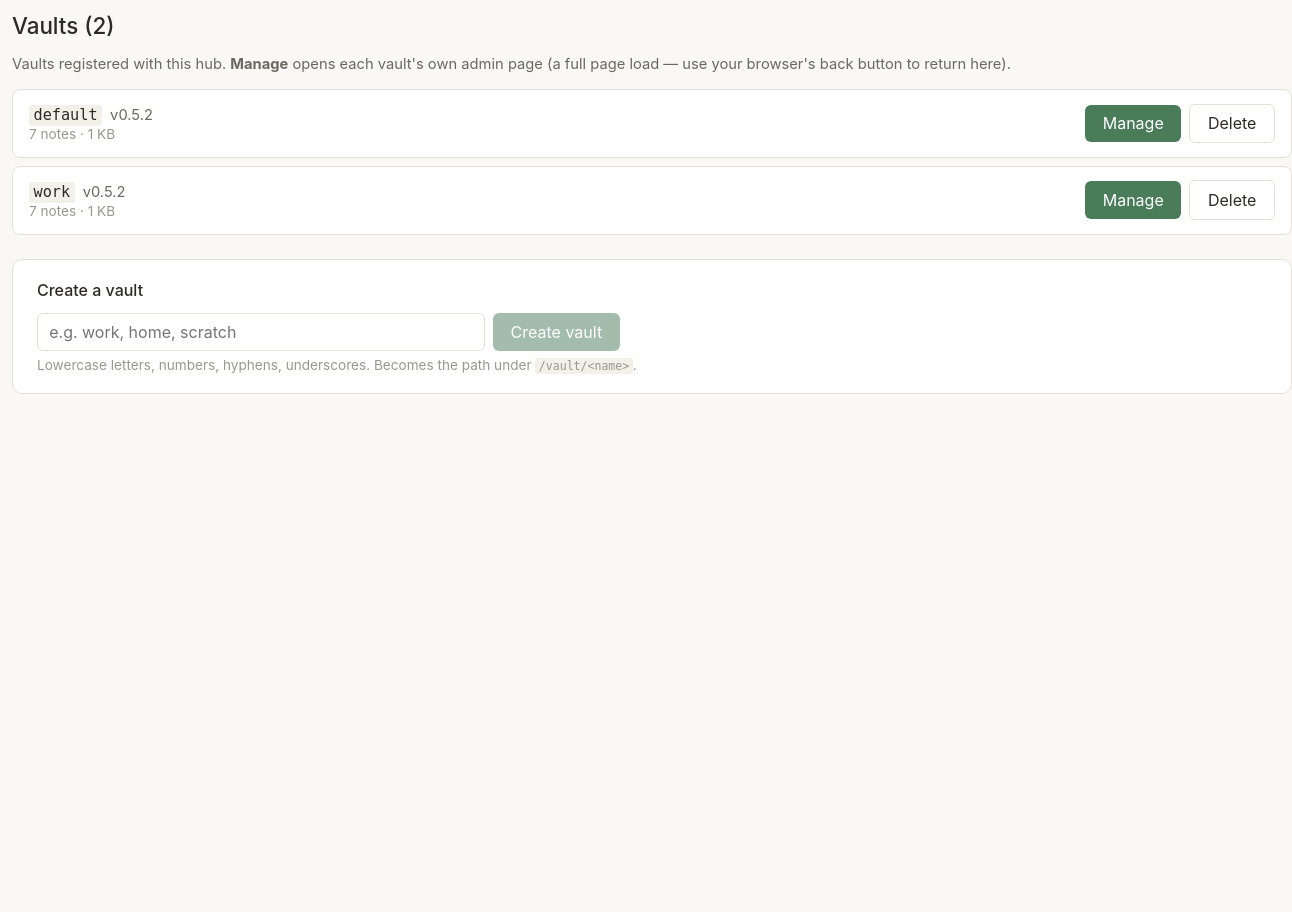
MultiVaultHome — delete › requires the retype-the-name confirm, then renders the cascade summary
The image size is (1292, 912).
expect the text "work" is shown: met, box [29, 182, 75, 203]
Click the button "Delete" in the row of "work" at coordinates (1232, 200), box [1189, 180, 1275, 220]
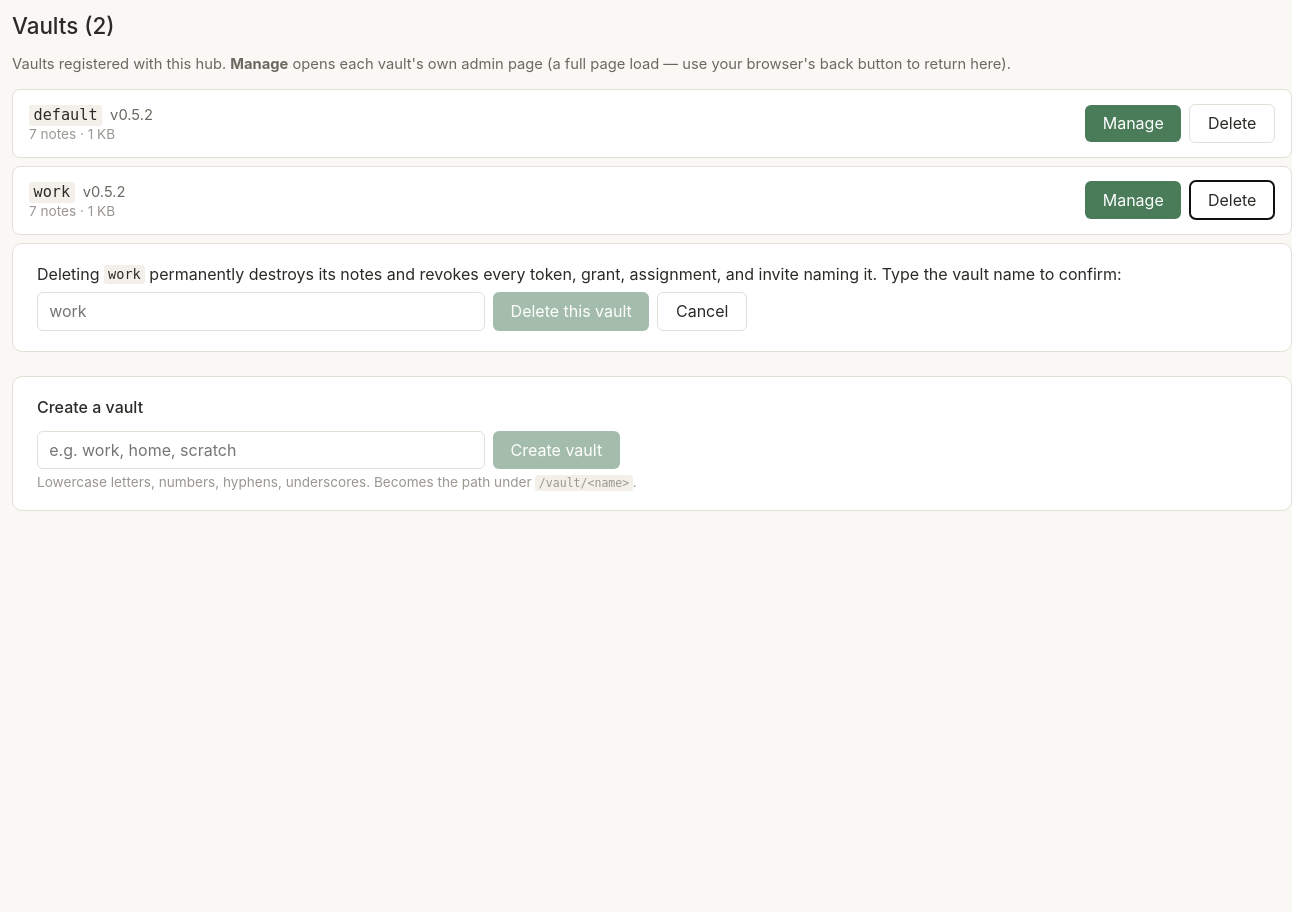
expect the button "Delete this vault" is disabled: met, box [493, 292, 649, 331]
Type "wrok" into the field named "Type work to confirm deletion" at coordinates (261, 311), box [37, 292, 485, 331]
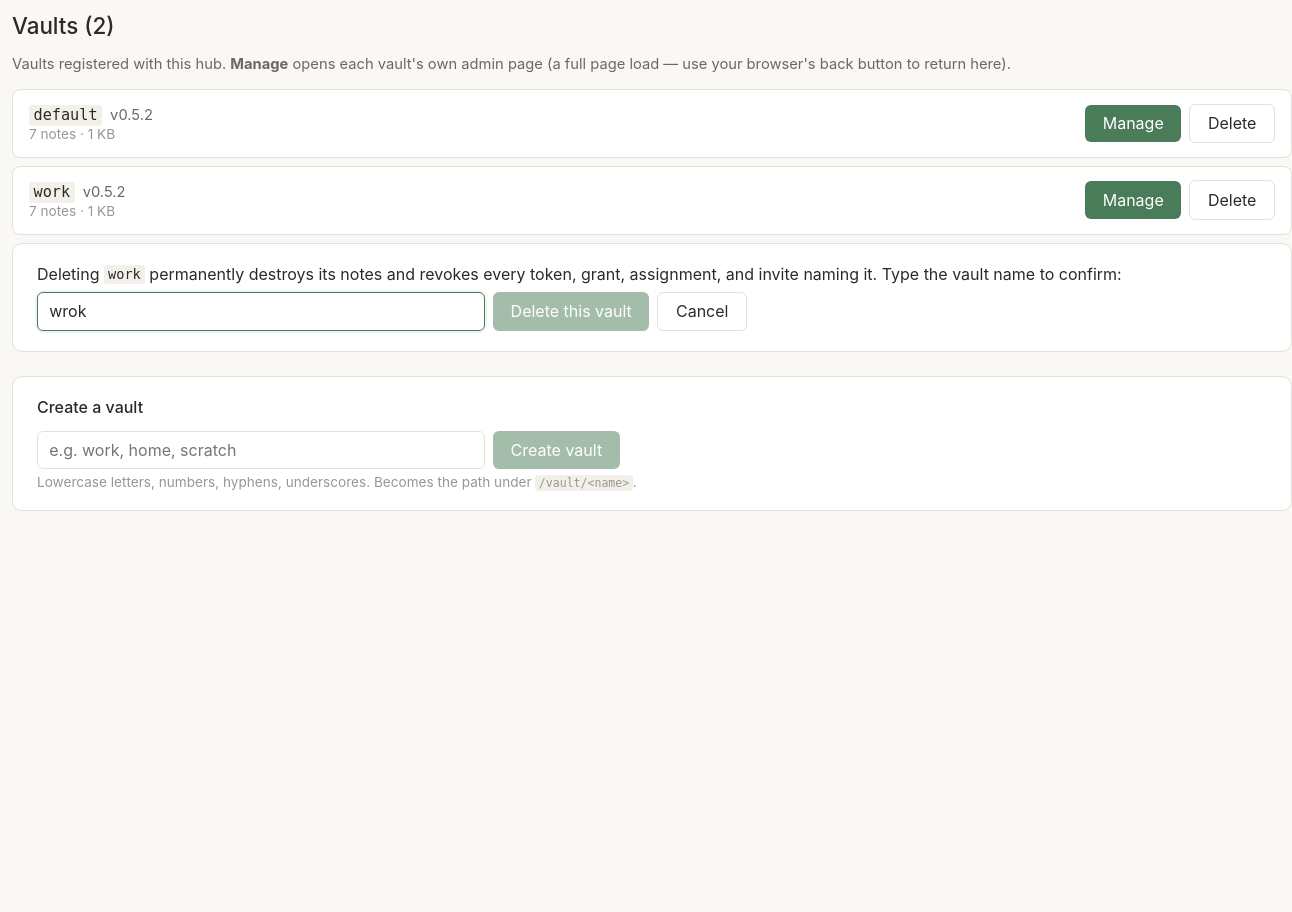
expect the button "Delete this vault" is disabled: met, box [493, 292, 649, 331]
Replace the text in the field named "Type work to confirm deletion" with "work" at coordinates (261, 311), box [37, 292, 485, 331]
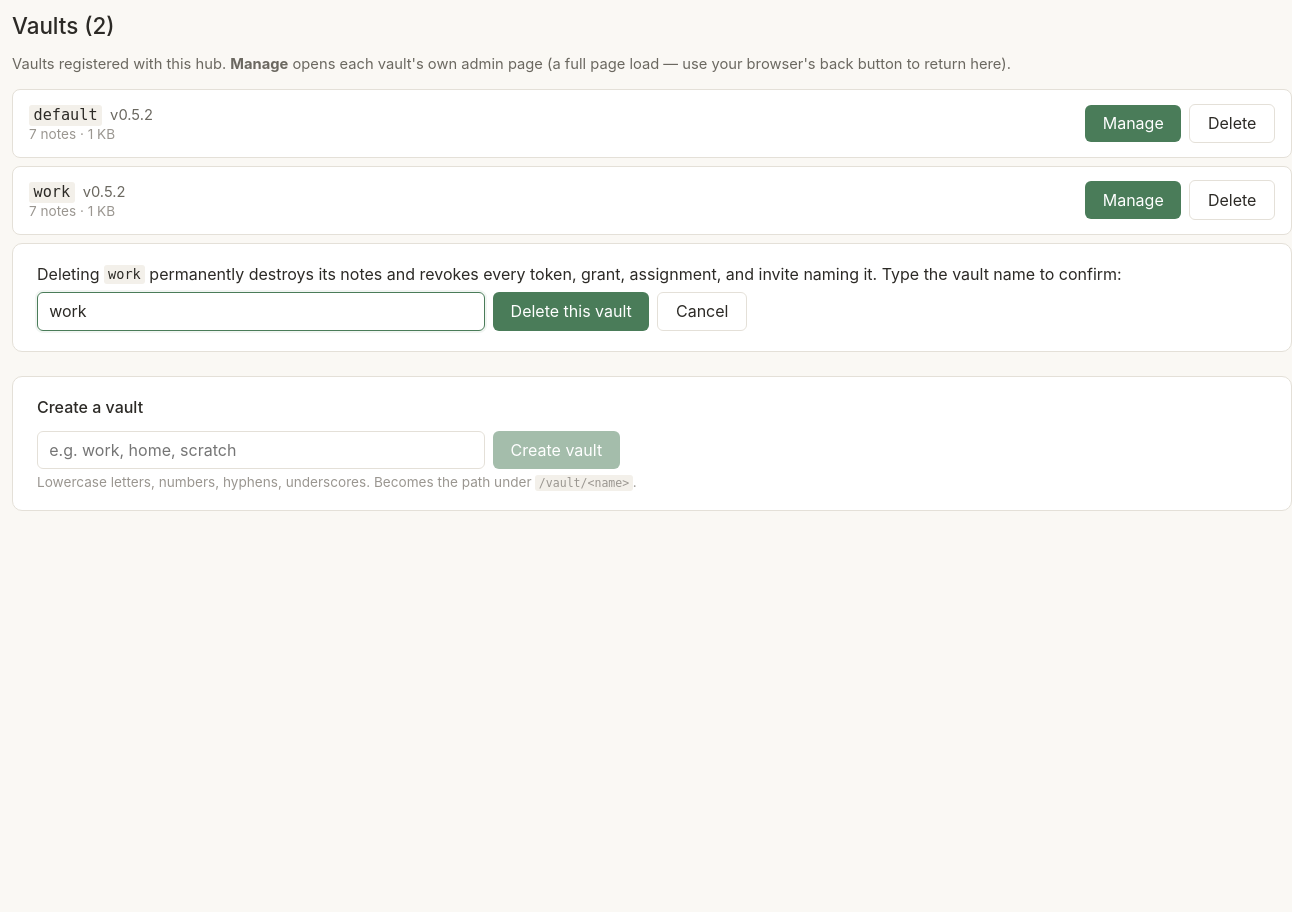
expect the button "Delete this vault" is enabled: met
Click the button "Delete this vault" at coordinates (571, 311), box [493, 292, 649, 331]
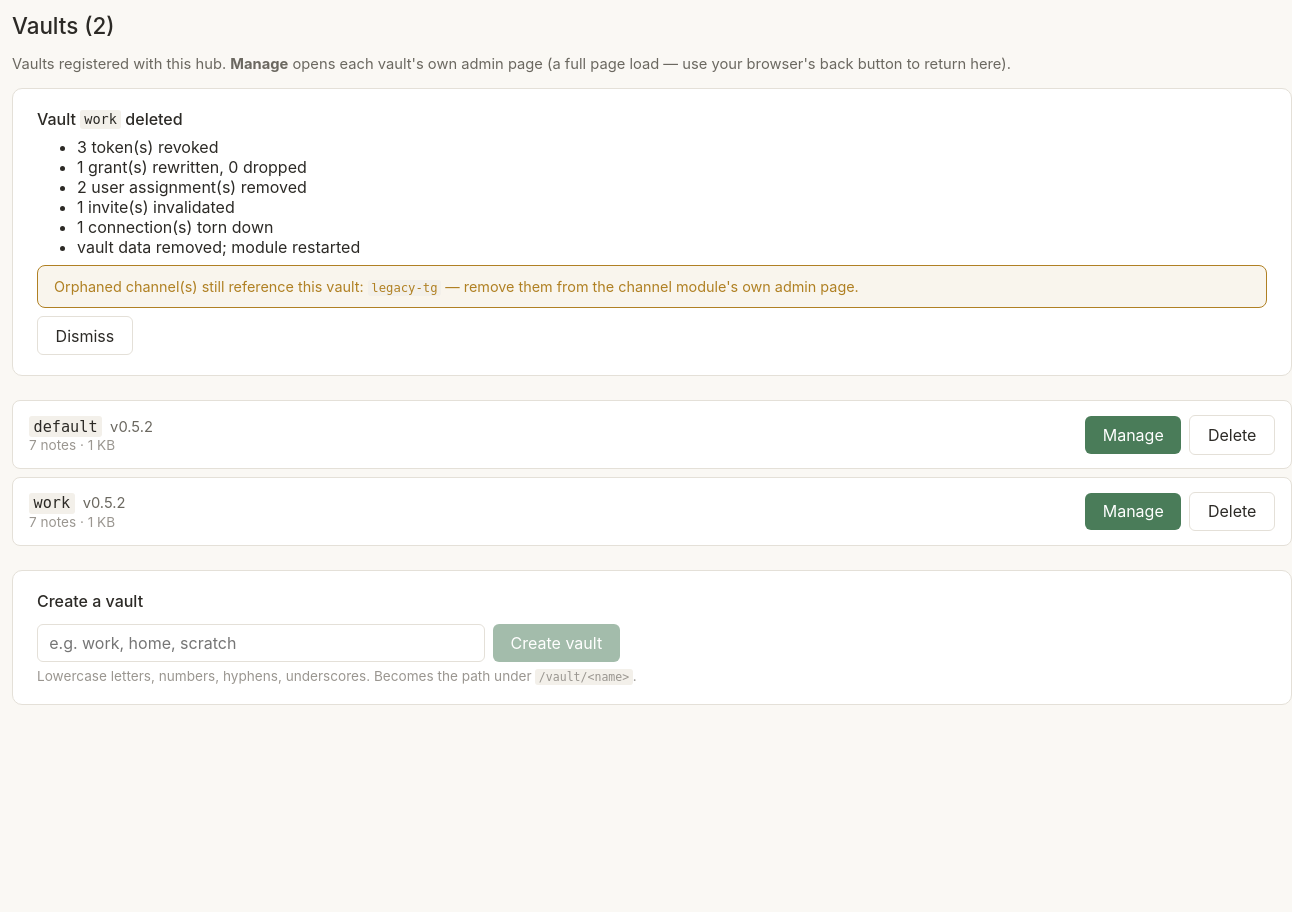
expect the list item "3 token(s) revoked" is shown: met, box [77, 137, 218, 157]
expect the list item "1 invite(s) invalidated" is shown: met, box [77, 197, 235, 217]
expect the text "legacy-tg" is shown: met, box [368, 280, 441, 296]
